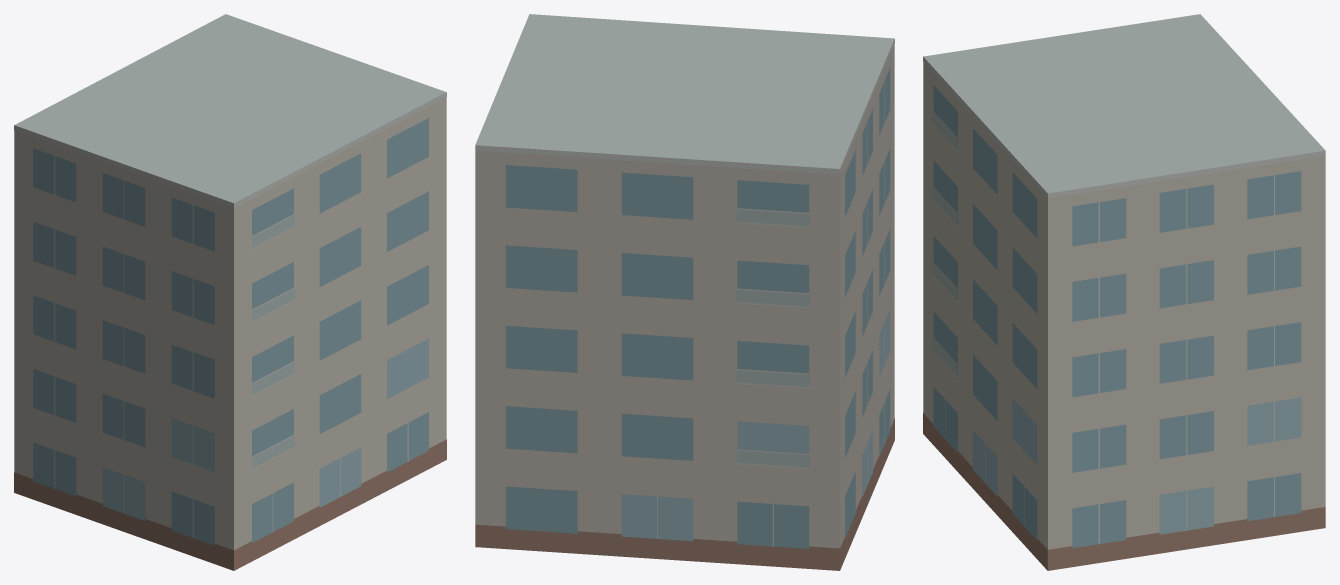
Rendered from survey-upis-32856608.glb.
3 renders of one model, left to right at view 1: azimuth 30°, elevation 25°; view 2: azimuth 150°, elevation 25°; view 3: azimuth 270°, elevation 25°, orthographic. The views are drawn at different scales.
Parts seen in each view (by area): view 1: survey-upis-32856608.tmp; view 2: survey-upis-32856608.tmp; view 3: survey-upis-32856608.tmp.
Part boxes in pixels (<box>): survey-upis-32856608.tmp: <box>14,14,446,570</box>; survey-upis-32856608.tmp: <box>475,14,894,570</box>; survey-upis-32856608.tmp: <box>923,14,1325,570</box>.
Bounding box in the file's own units: 18.27 × 17.9 × 17.31.
